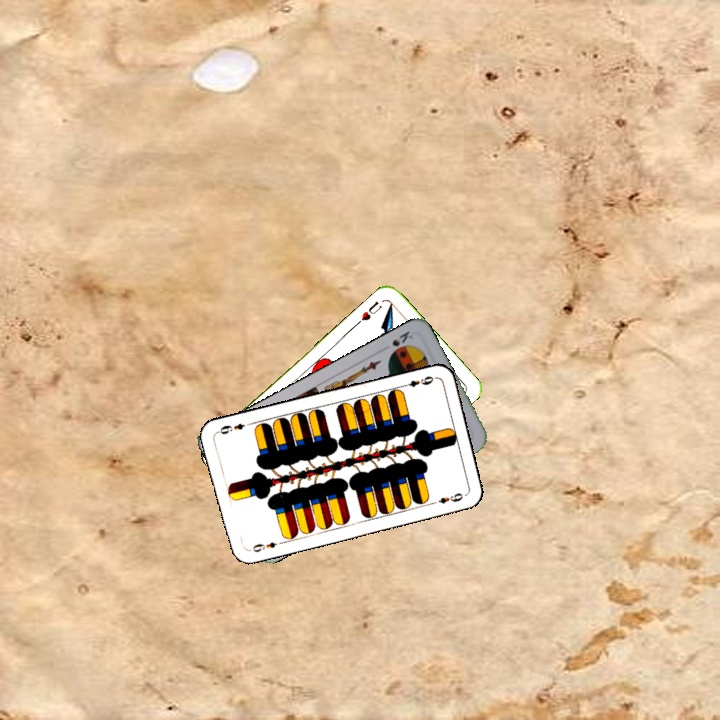E9: (397, 372, 438, 390), (244, 538, 284, 555)
HU: (353, 297, 384, 327)
SK: (378, 327, 415, 353)
